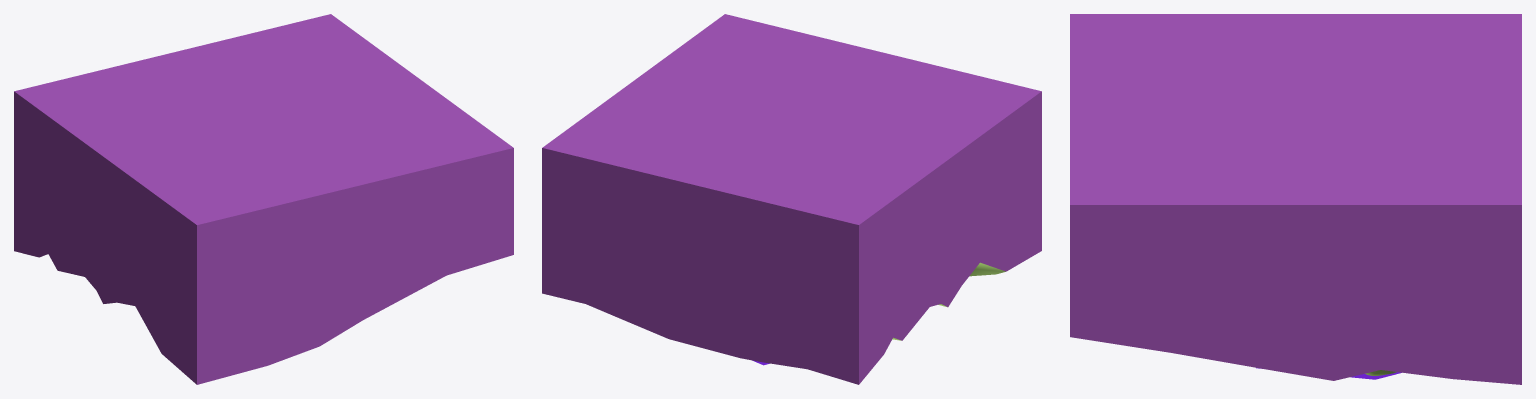
File: deltahalo_01.fbx
The picture shows the model from 3 angles, left to right: view 1: azimuth 30°, elevation 25°; view 2: azimuth 150°, elevation 25°; view 3: azimuth 270°, elevation 25°; orthographic projection. The views are drawn at different scales.
Visible parts, largest first — view 1: island; view 2: island; view 3: island.
Part boxes in pixels (box(x1,y1,x2,y2)): island: box(14, 14, 513, 384); island: box(542, 14, 1041, 384); island: box(1070, 14, 1521, 384).
Size of what is drawn, in the model's own units: 120000 by 120000 by 70425.
